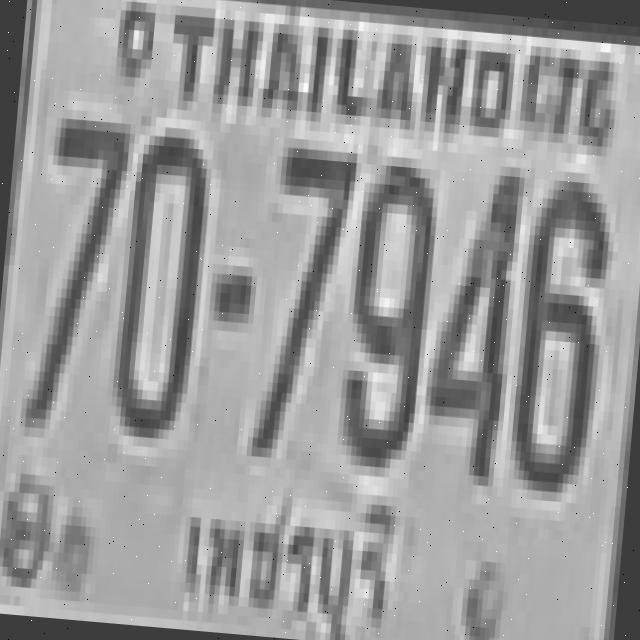0: (104, 124, 210, 431)
4: (420, 156, 520, 472)
6: (503, 168, 609, 484)
7: (249, 137, 355, 453), (26, 108, 126, 424)
9: (336, 153, 436, 460)
Phetchaburi: (159, 477, 406, 640)
